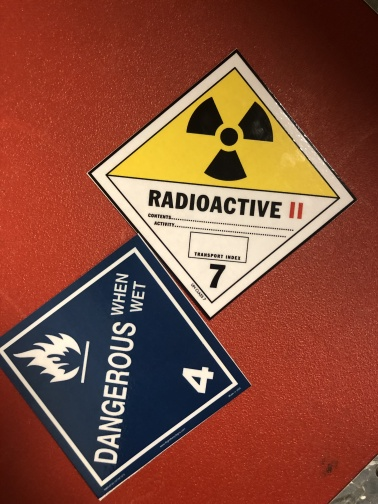DangerousWhenWet: (1, 235, 250, 500)
Radioactive: (85, 49, 355, 318)
